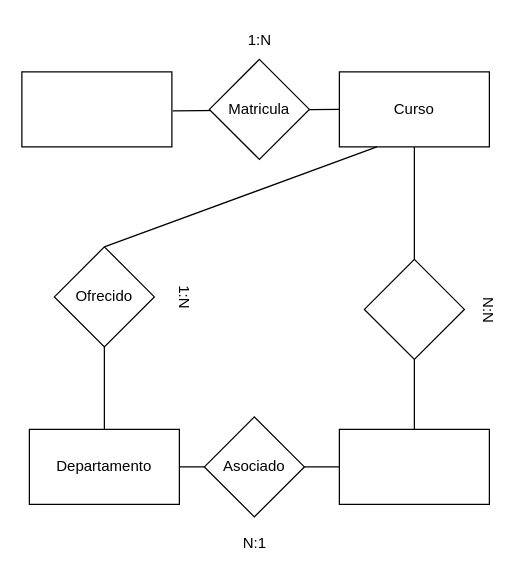
Image size: 529x583. Some labels were removed from this diagram. The centre of each missing label's shape, as x and y in pixels:
Estudiante: point (96, 109)
Imparte: point (413, 308)
Profesor: point (413, 466)
